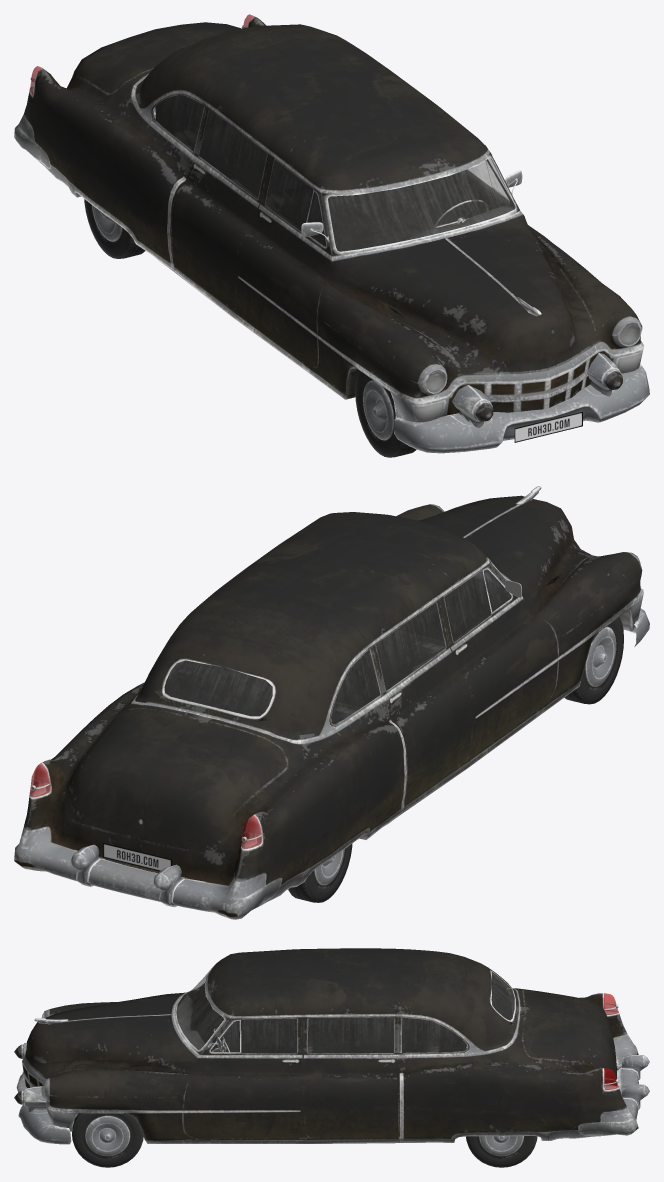
Rendered from dirty_car_cadillac_75_sedan_1953.glb.
3 views of the same model, one above another, from view 1: azimuth 30°, elevation 25°; view 2: azimuth 150°, elevation 25°; view 3: azimuth 270°, elevation 25° (orthographic). The views are drawn at different scales.
Visible parts, largest first — view 1: Object_2; view 2: Object_2; view 3: Object_2.
Part boxes in pixels (bbox=[...]): Object_2: bbox=[14, 14, 649, 457]; Object_2: bbox=[14, 486, 649, 919]; Object_2: bbox=[14, 948, 649, 1167].
Bounding box in the file's own units: 1.85 × 1.6 × 5.67.
1 material, 1 textured.
